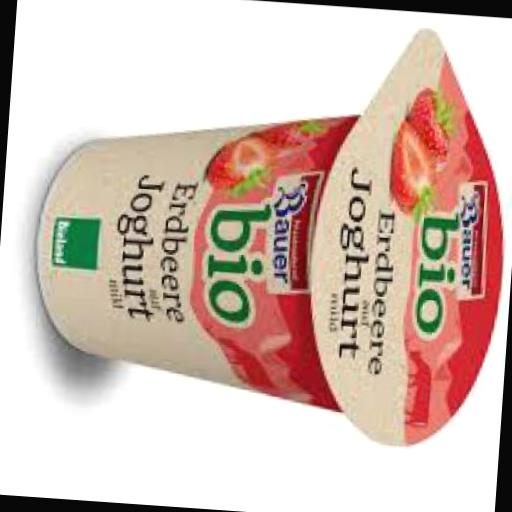plastic: (25, 0, 512, 449)
